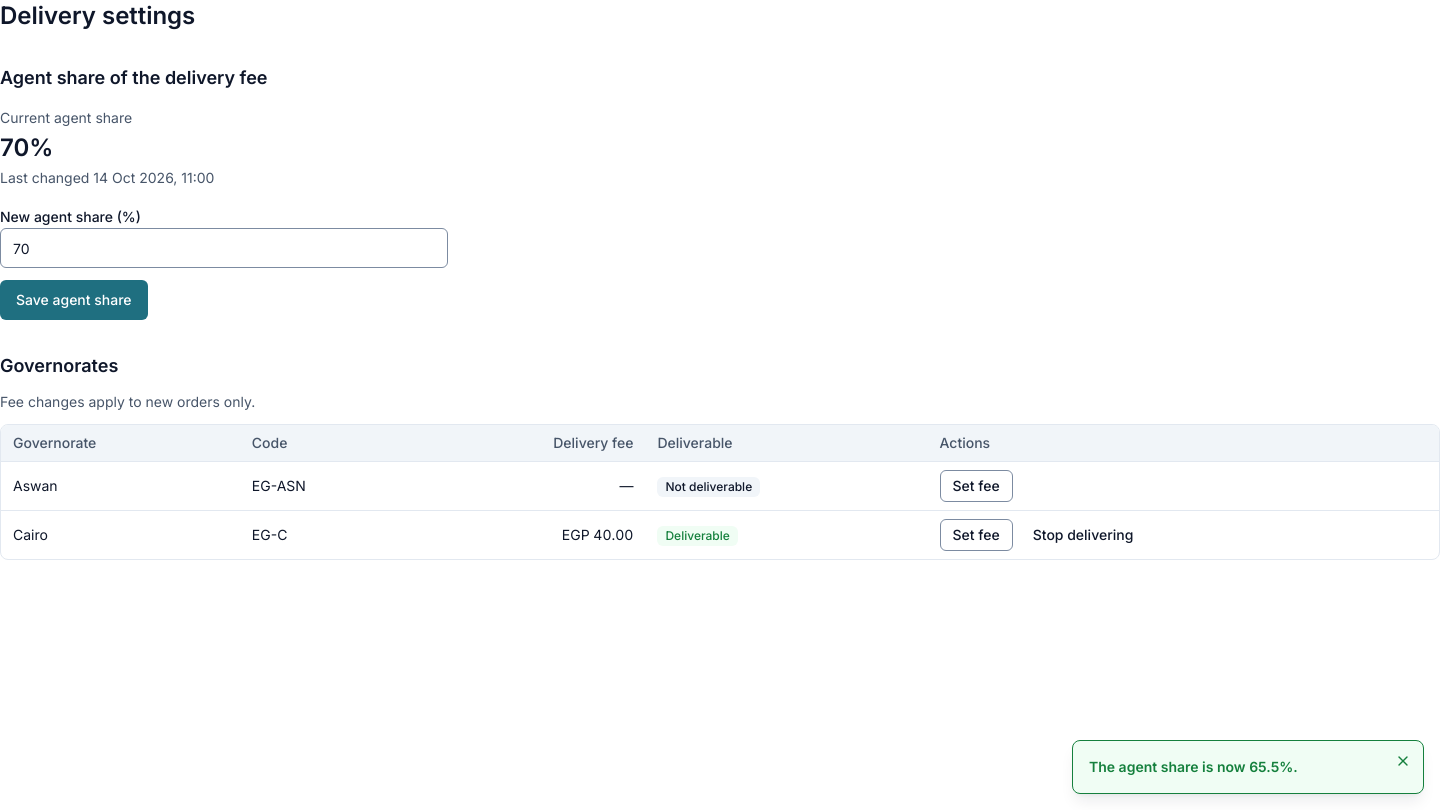
Test: delivery settings (spec 03 AD-08) › "Set fee" always sends deliveryFee as a string; the row updates from the answer
The image size is (1440, 810).
Click the button with aria-label "Set fee for Aswan". click: x=976, y=486
box: [940,470,1013,502]
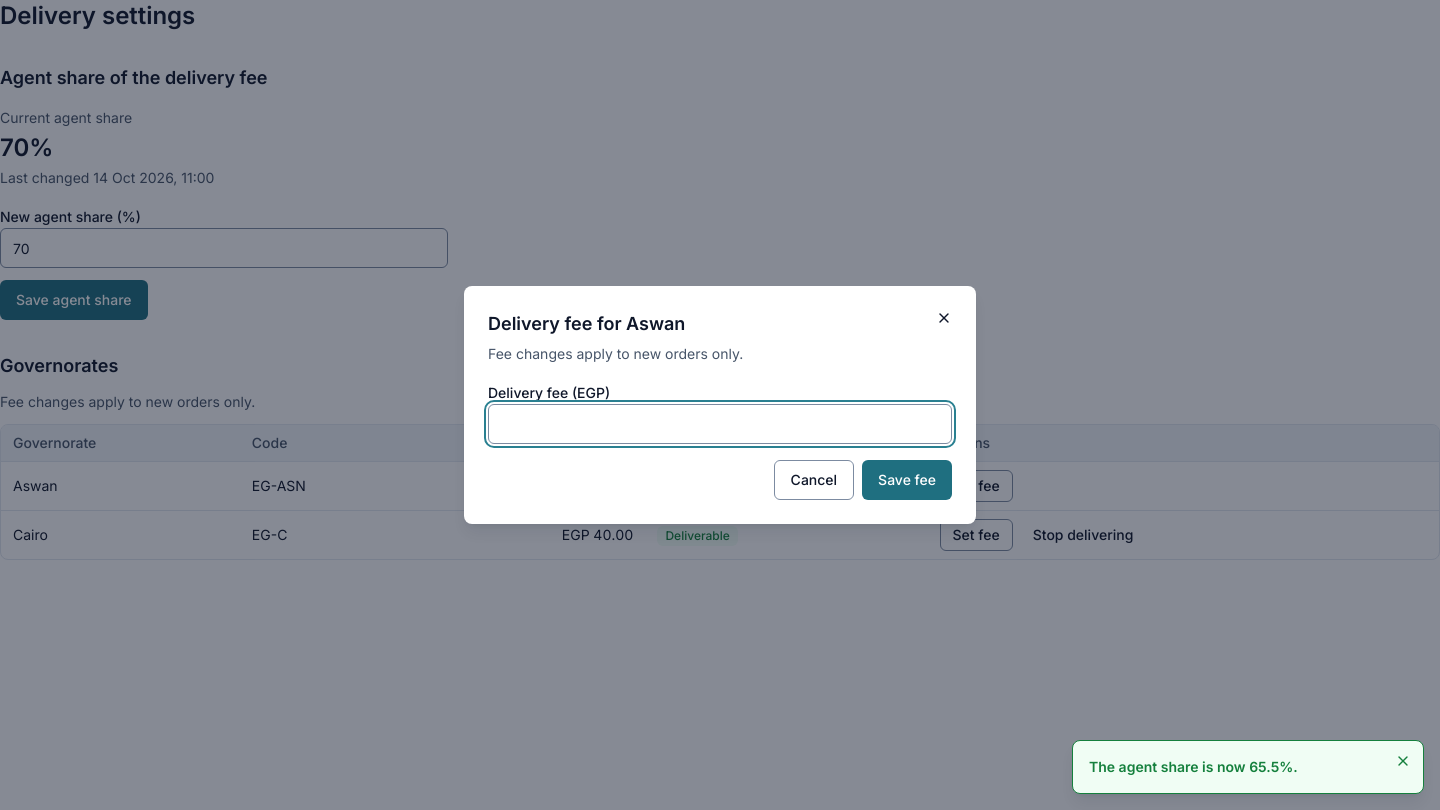
Type "12.x" into the field labelled "Delivery fee (EGP)". click: x=720, y=424
box: [488,404,952,444]
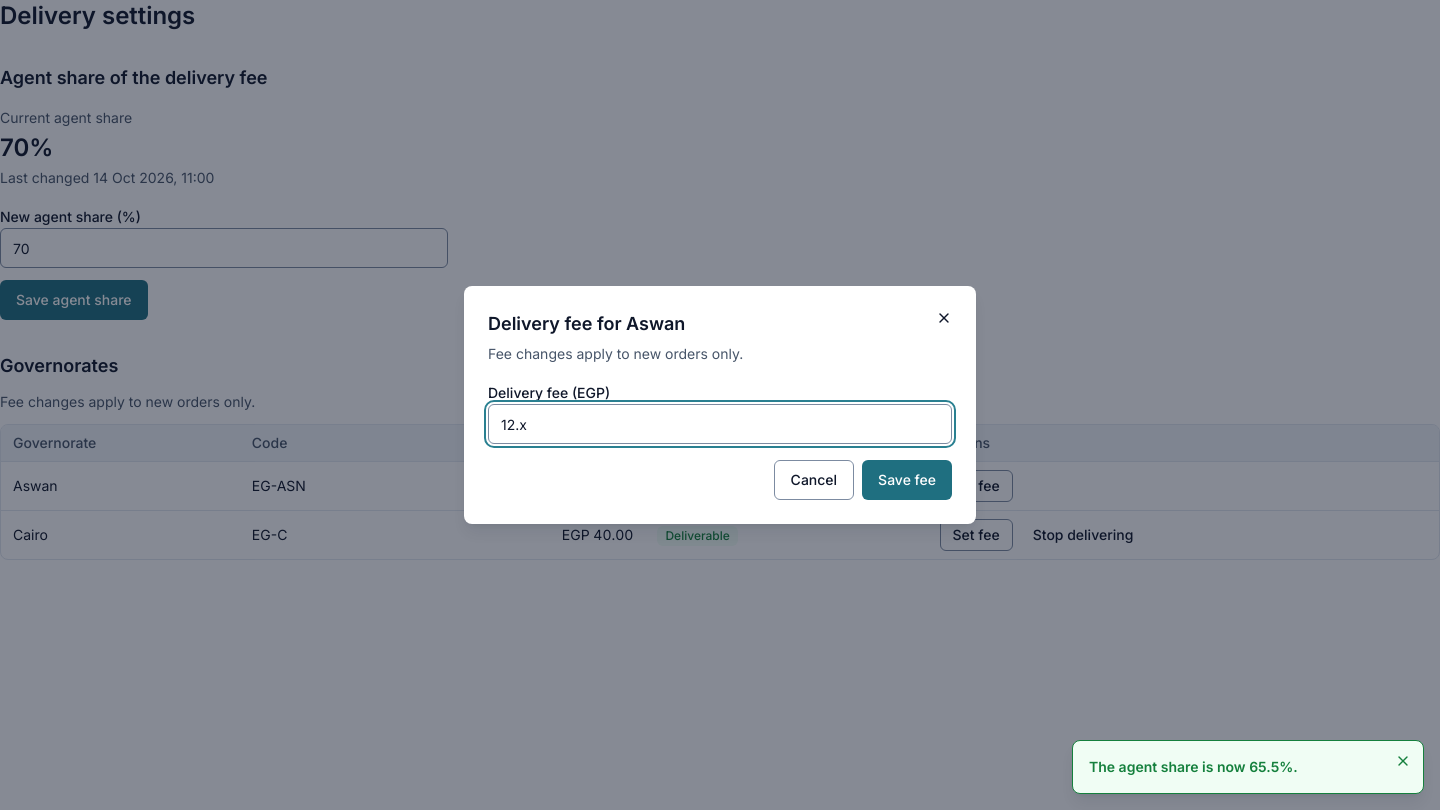
Click the button "Save fee". click: x=907, y=480
box: [862,460,952,500]
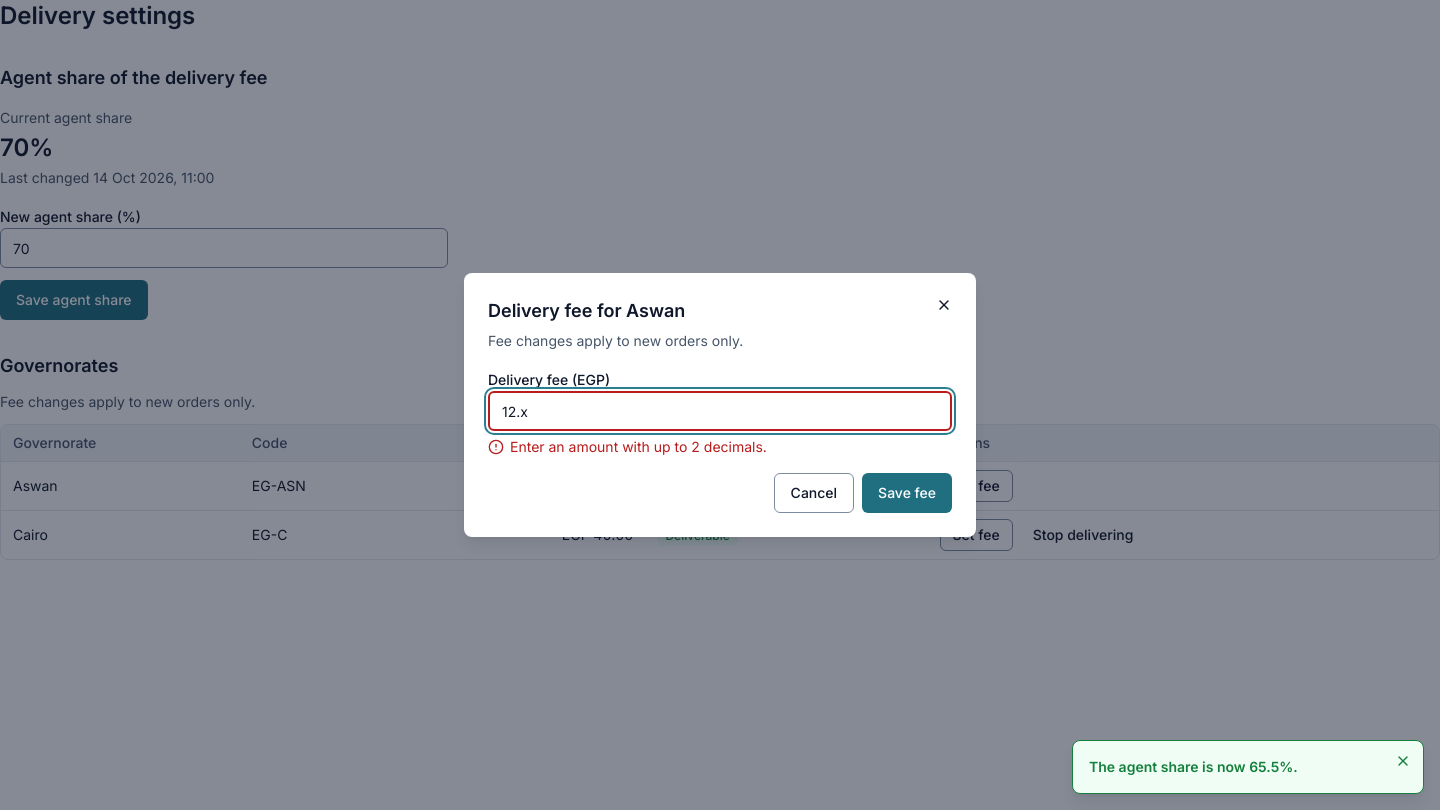
Replace the text in the field labelled "Delivery fee (EGP)" with "0". click: x=720, y=411
box: [488,391,952,431]
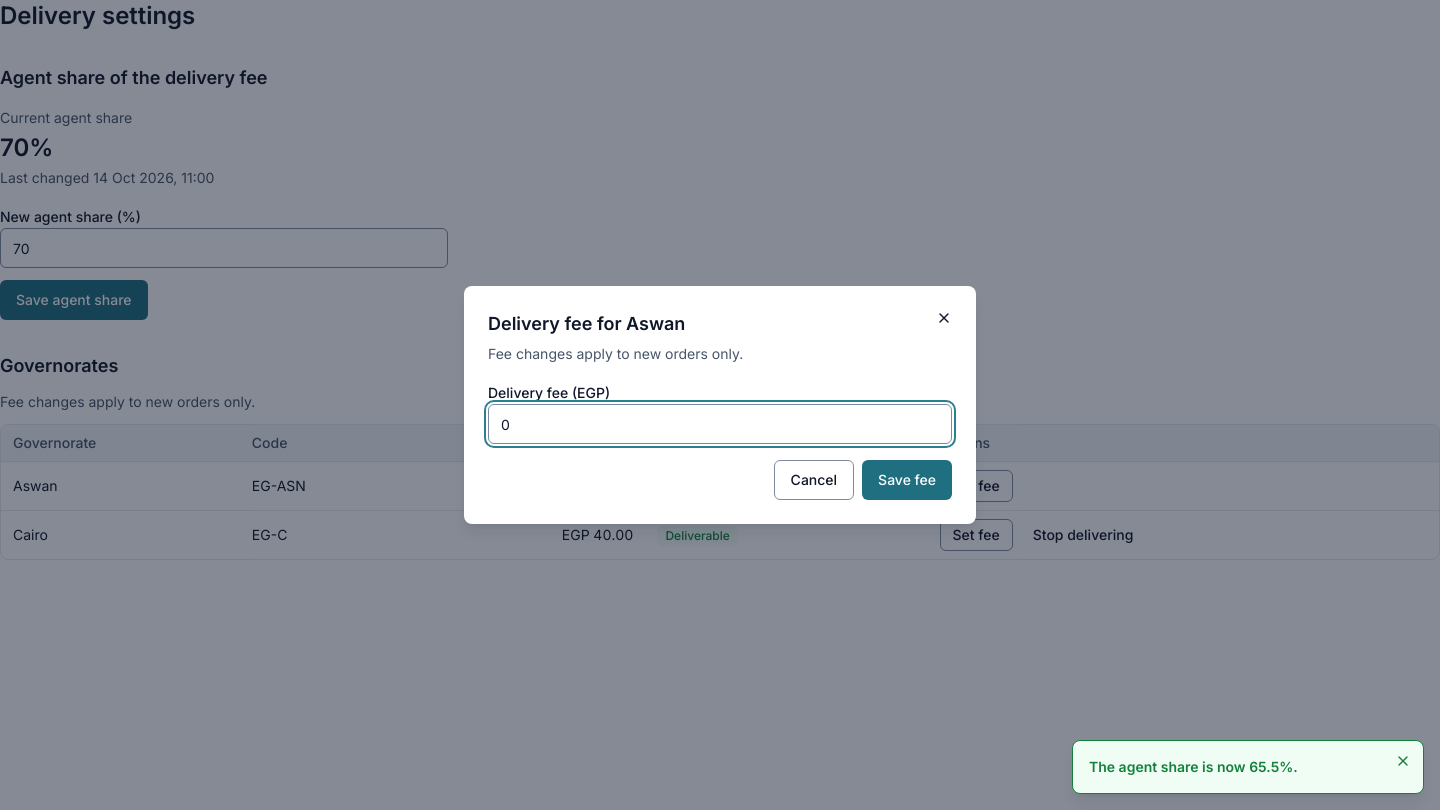
Click the button "Save fee". click: x=907, y=480
box: [862,460,952,500]
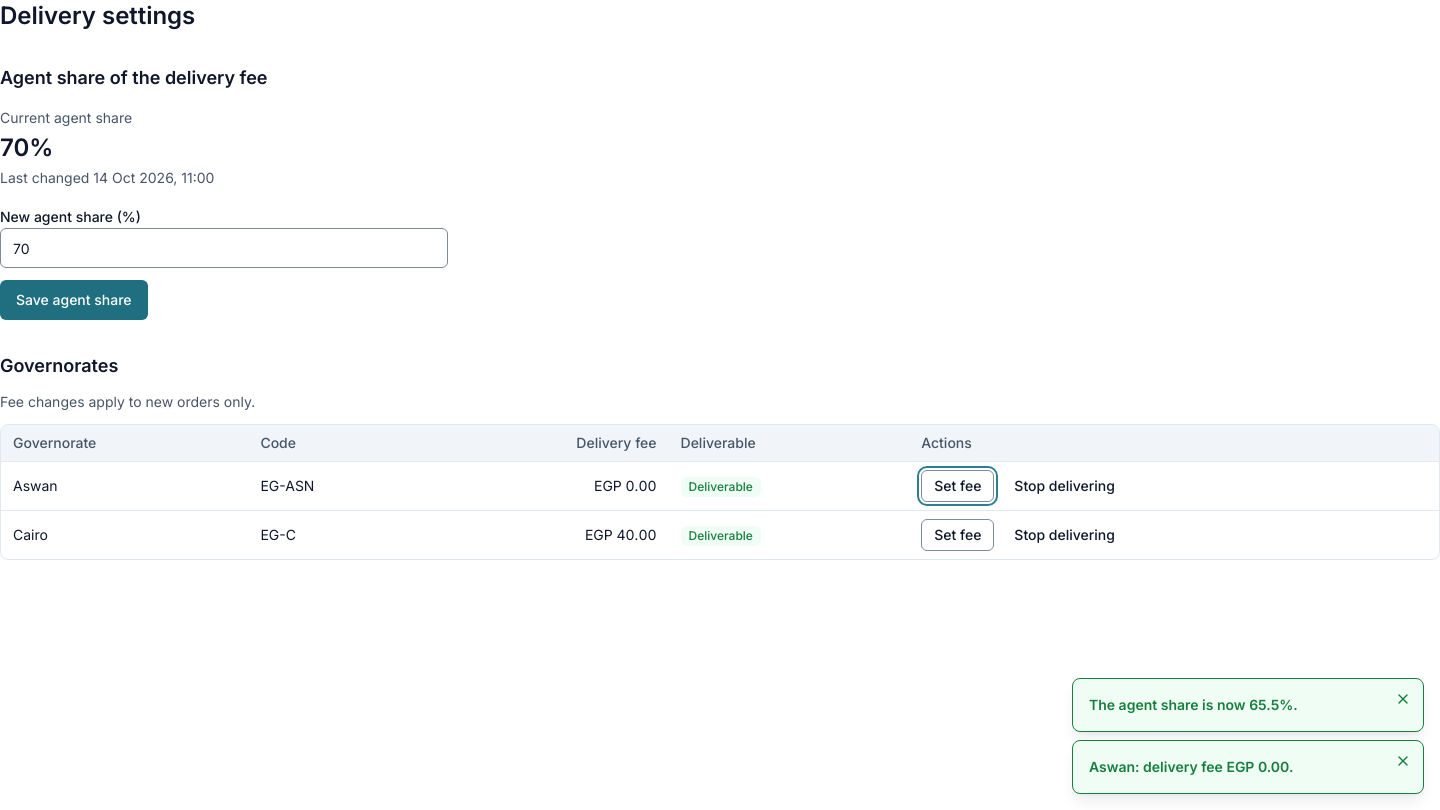
Now the dialog is gone
Now the button with aria-label "Stop delivering to Aswan" is shown, box [1002,470,1127,502]
